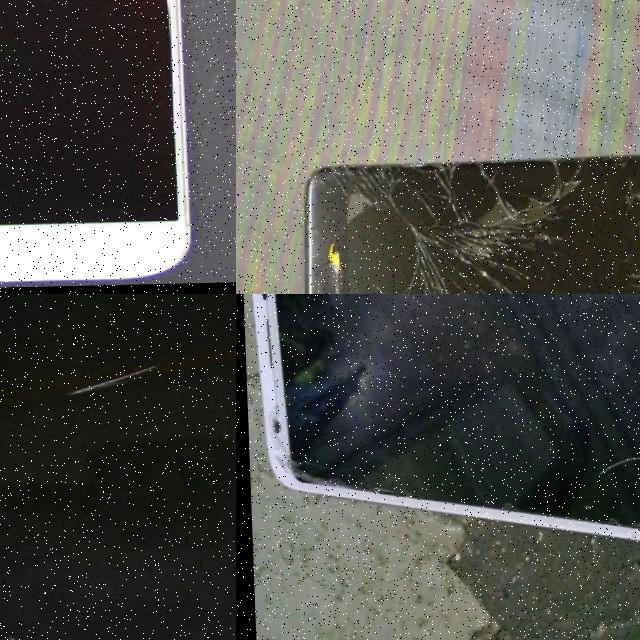scratch: (69, 361, 164, 399), (0, 0, 100, 34)
screen crack: (292, 150, 640, 294)
